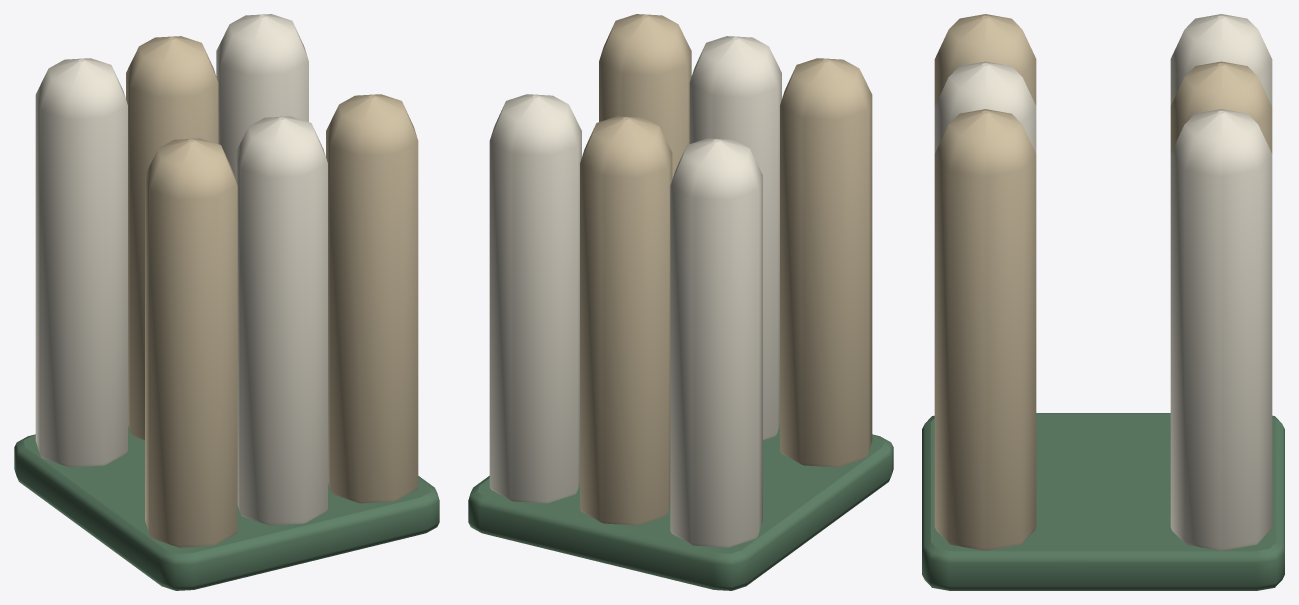
The model's file is t200_scrubber.obj.
The picture shows the model from 3 angles, left to right: view 1: azimuth 30°, elevation 25°; view 2: azimuth 150°, elevation 25°; view 3: azimuth 270°, elevation 25°; orthographic projection. The views are drawn at different scales.
Visible parts, largest first — view 1: t200_scrubber; view 2: t200_scrubber; view 3: t200_scrubber.
Part boxes in pixels (left/top/right/bottom): t200_scrubber: left=14, top=14, right=439, bottom=590; t200_scrubber: left=468, top=14, right=893, bottom=590; t200_scrubber: left=922, top=14, right=1284, bottom=590.
Size of the model in its own units: 1.9 by 2.78 by 2.
